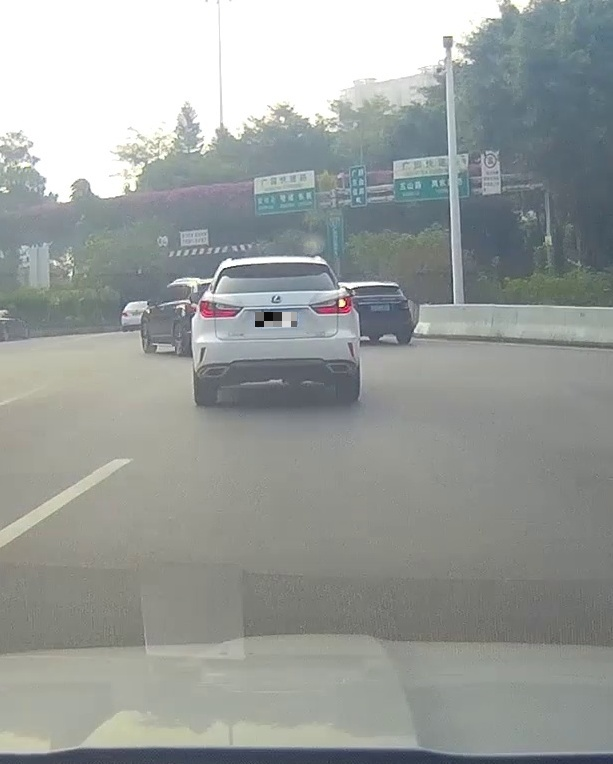L_light: (199, 300, 244, 318)
R_light: (308, 295, 352, 315)
T_light: (266, 261, 285, 266)
day-right: (196, 255, 357, 406)
plate_1: (255, 312, 297, 327)
